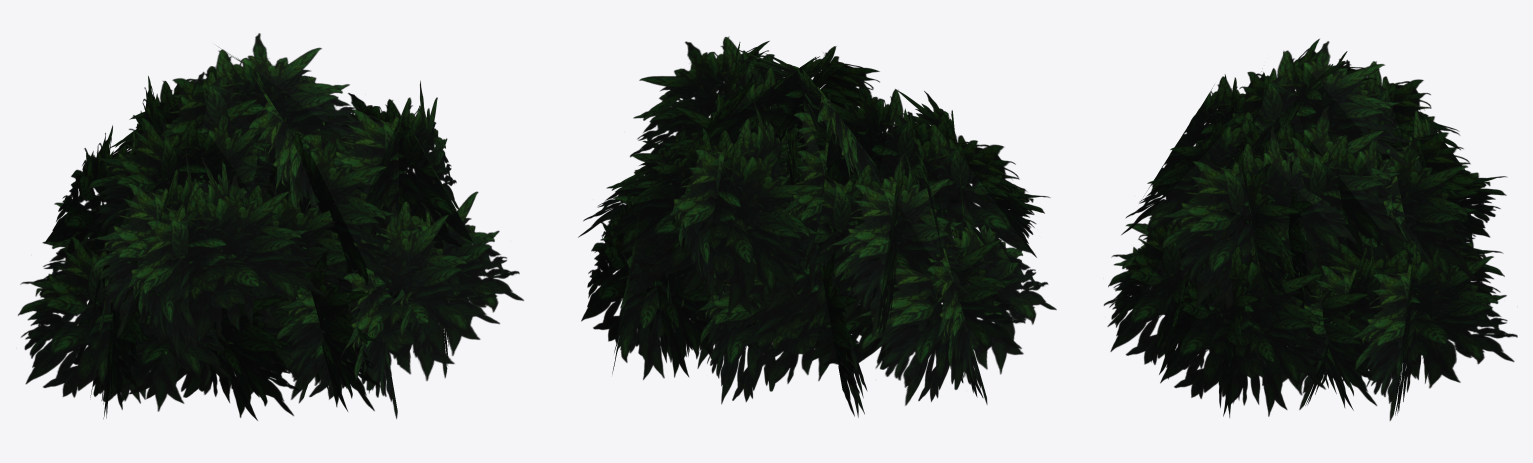
Rendered from Plant_A.glb.
The picture shows the model from 3 angles, left to right: view 1: azimuth 30°, elevation 25°; view 2: azimuth 150°, elevation 25°; view 3: azimuth 270°, elevation 25°; orthographic projection. The views are drawn at different scales.
Visible parts, largest first — view 1: Plant_A; view 2: Plant_A; view 3: Plant_A.
Boxes of the visible parts, bbox=[...] form: Plant_A: bbox=[18, 33, 523, 420]; Plant_A: bbox=[578, 36, 1056, 417]; Plant_A: bbox=[1103, 38, 1517, 420].
Size of the model in its own units: 1.27 by 0.8715 by 1.05.
1 material, 1 textured.
